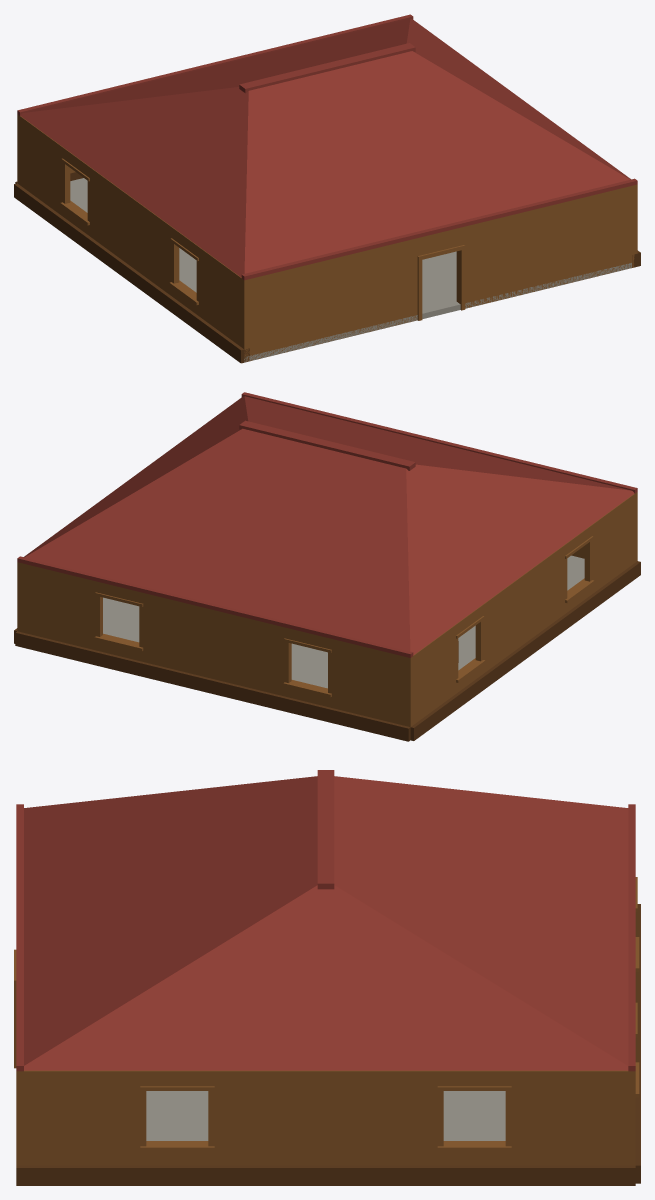
File: cabin_wood.glb
3 views of the same model, one above another, from view 1: azimuth 30°, elevation 25°; view 2: azimuth 150°, elevation 25°; view 3: azimuth 270°, elevation 25° (orthographic). The views are drawn at different scales.
Parts seen in each view (by area): view 1: cabin_wood; view 2: cabin_wood; view 3: cabin_wood.
Part boxes in pixels (box(x1,y1,x2,y2)): cabin_wood: box(14, 14, 640, 363); cabin_wood: box(14, 392, 640, 741); cabin_wood: box(14, 770, 640, 1185).
Size of the model in its own units: 15.26 by 6.04 by 15.19.
